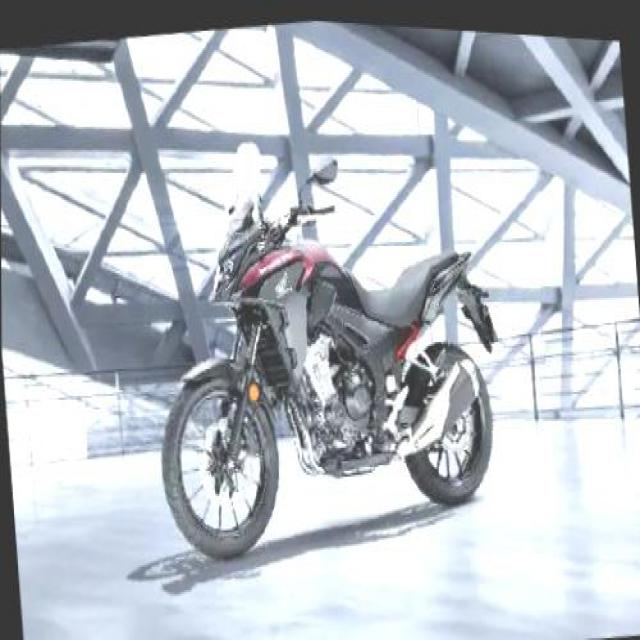CB500X: (136, 94, 505, 580)
